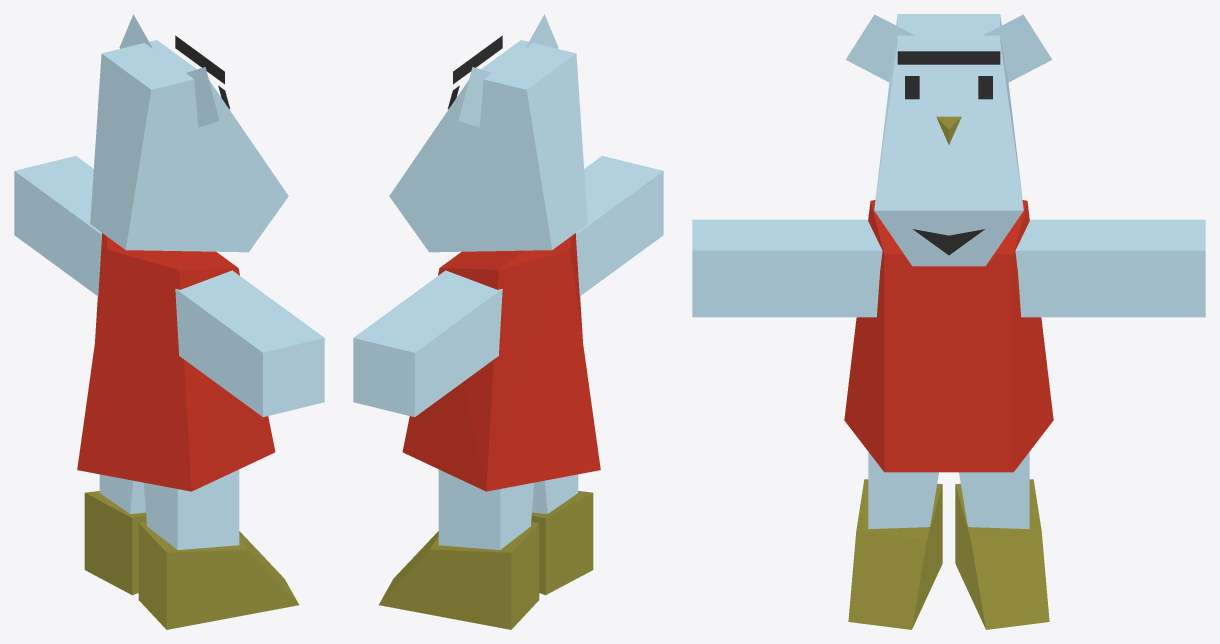
File: gordon.glb
3 renders of one model, left to right at view 1: azimuth 30°, elevation 25°; view 2: azimuth 150°, elevation 25°; view 3: azimuth 270°, elevation 25°, orthographic. The views are drawn at different scales.
Visible parts, largest first — view 1: Trunk, Head, Cube.003, Foot.001, Cube.002, Cube.001, Foot, Cube, RightEar, EyeBrow, LeftEar; view 2: Trunk, Head, Cube.002, Foot, Cube.003, Cube, Foot.001, Cube.001, LeftEar, EyeBrow, RightEar; view 3: Trunk, Head, Cube.002, Cube.003, Foot, Foot.001, Cube, Cube.001, LeftEar, RightEar, EyeBrow, Smile.
Part boxes in pixels (bbox=[...]): Trunk: bbox=[77, 233, 275, 491]; Head: bbox=[90, 40, 288, 252]; Cube.003: bbox=[175, 270, 324, 417]; Foot.001: bbox=[138, 522, 298, 629]; Cube.002: bbox=[14, 156, 101, 296]; Cube.001: bbox=[143, 469, 239, 549]; Foot: bbox=[84, 491, 146, 595]; Cube: bbox=[99, 474, 145, 513]; RightEar: bbox=[186, 67, 219, 127]; EyeBrow: bbox=[175, 35, 224, 84]; LeftEar: bbox=[119, 14, 152, 48]; Trunk: bbox=[402, 233, 600, 491]; Head: bbox=[389, 40, 587, 252]; Cube.002: bbox=[353, 270, 502, 417]; Foot: bbox=[379, 522, 539, 629]; Cube.003: bbox=[576, 156, 663, 296]; Cube: bbox=[438, 469, 534, 549]; Foot.001: bbox=[531, 491, 593, 595]; Cube.001: bbox=[532, 474, 578, 513]; LeftEar: bbox=[458, 67, 491, 127]; EyeBrow: bbox=[453, 35, 502, 84]; RightEar: bbox=[525, 14, 558, 48]; Trunk: bbox=[844, 200, 1053, 472]; Head: bbox=[874, 14, 1023, 266]; Cube.002: bbox=[1015, 219, 1205, 317]; Cube.003: bbox=[692, 219, 882, 317]; Foot: bbox=[955, 479, 1049, 629]; Foot.001: bbox=[848, 479, 942, 629]; Cube: bbox=[959, 452, 1029, 529]; Cube.001: bbox=[868, 452, 938, 529]; LeftEar: bbox=[983, 14, 1052, 82]; RightEar: bbox=[845, 14, 914, 82]; EyeBrow: bbox=[897, 51, 1000, 64]; Smile: bbox=[913, 229, 984, 255].
Size of the model in its own units: 3.08 by 8.52 by 7.
